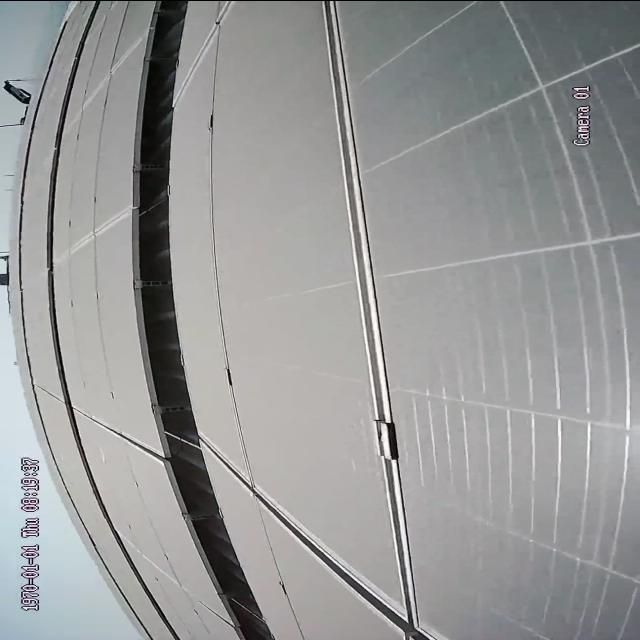interior panel: (208, 4, 444, 638), (181, 1, 238, 98), (76, 401, 156, 461), (58, 203, 123, 265)
outher panel: (132, 0, 276, 639)
